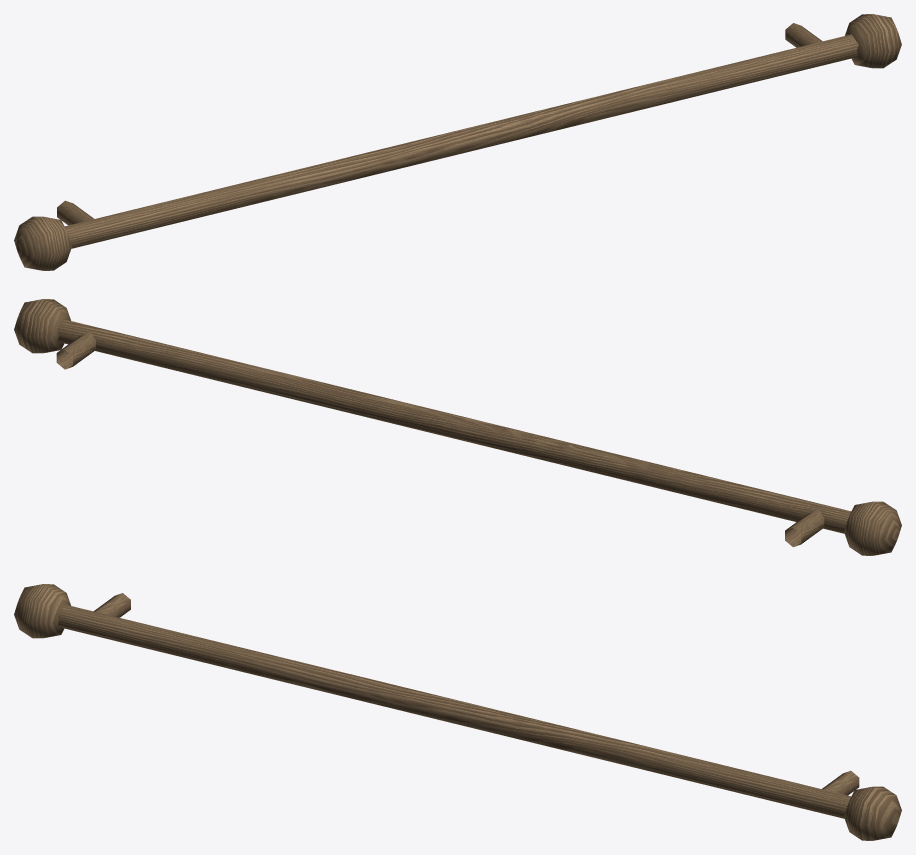
Rendered from curtain_018.fbx.
3 views of the same model, one above another, from view 1: azimuth 30°, elevation 25°; view 2: azimuth 150°, elevation 25°; view 3: azimuth 330°, elevation 25° (orthographic).
Visible parts, largest first — view 1: curtain_018; view 2: curtain_018; view 3: curtain_018.
Boxes of the visible parts, x1,y1,x2,y2 form: curtain_018: (14, 14, 901, 270); curtain_018: (14, 299, 901, 555); curtain_018: (14, 584, 901, 840).
Bounding box in the file's own units: 380 × 32.67 × 22.38.
